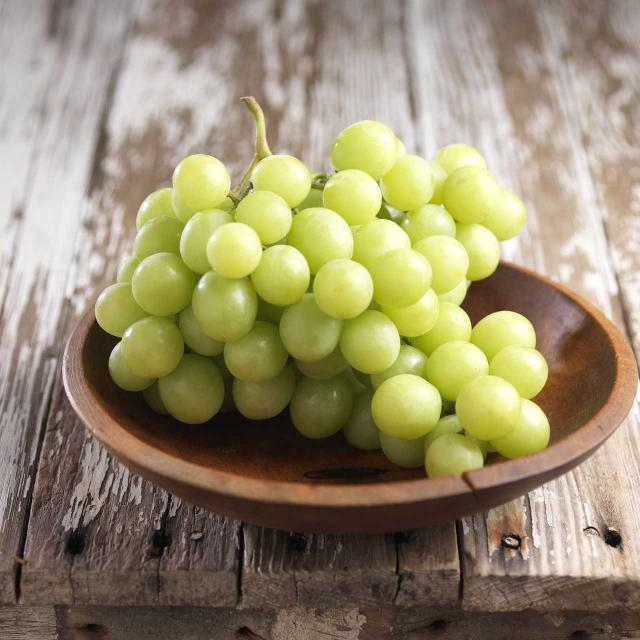grape: (86, 91, 556, 487)
